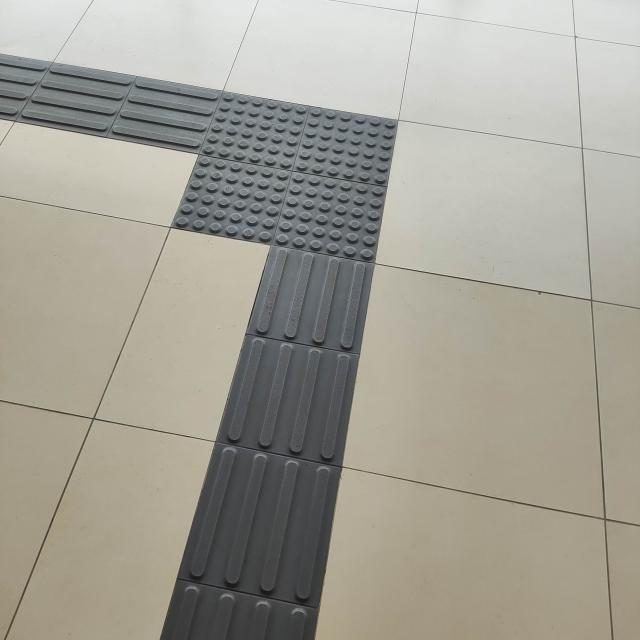kiri: (61, 43, 456, 310)
